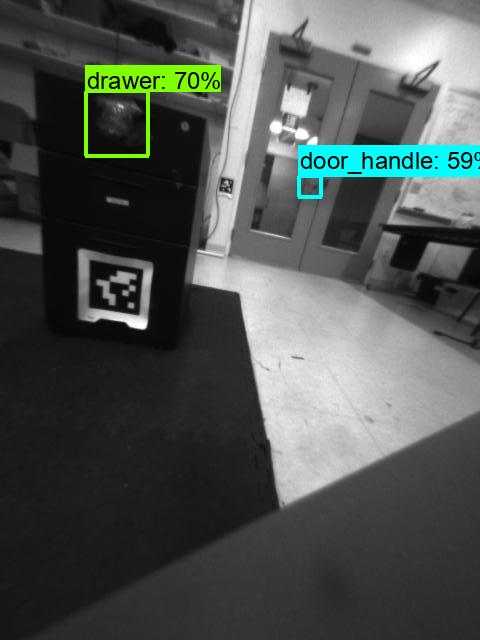door_handle: (299, 176, 322, 198)
drawer: (75, 93, 150, 161)
